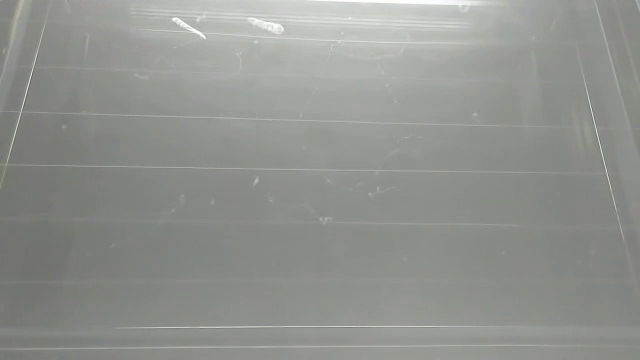alpha: (241, 13, 287, 38), (168, 15, 209, 43), (250, 175, 261, 188)
